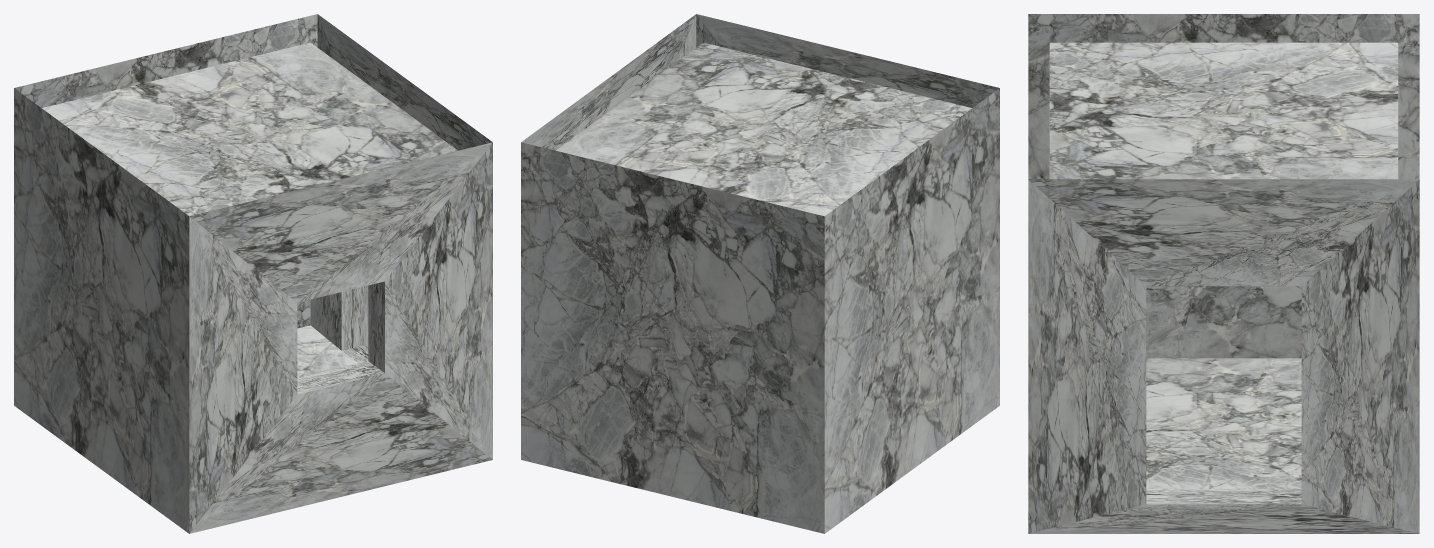
The model's file is majkubs01.glb.
3 views of the same model, side by side, from view 1: azimuth 30°, elevation 25°; view 2: azimuth 150°, elevation 25°; view 3: azimuth 270°, elevation 25° (orthographic). The views are drawn at different scales.
Visible parts, largest first — view 1: Cube; view 2: Cube; view 3: Cube.
Part boxes in pixels (x1,y1,x2,y2): Cube: (14,14,492,533); Cube: (521,14,999,533); Cube: (1028,14,1419,533).
Size of the model in its own units: 2 by 2 by 2.
Materials: 1 (1 with a texture image).
